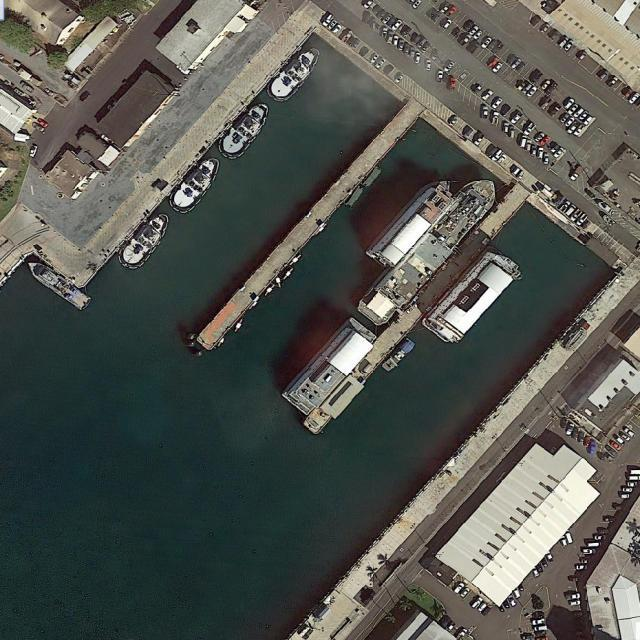Cargo: (352, 165, 506, 333)
Dock: (301, 184, 529, 436), (192, 105, 420, 353)
Hovercraft: (261, 38, 327, 108), (113, 206, 178, 275), (213, 94, 277, 163), (164, 151, 226, 217)
Other Ship: (22, 253, 94, 315)
